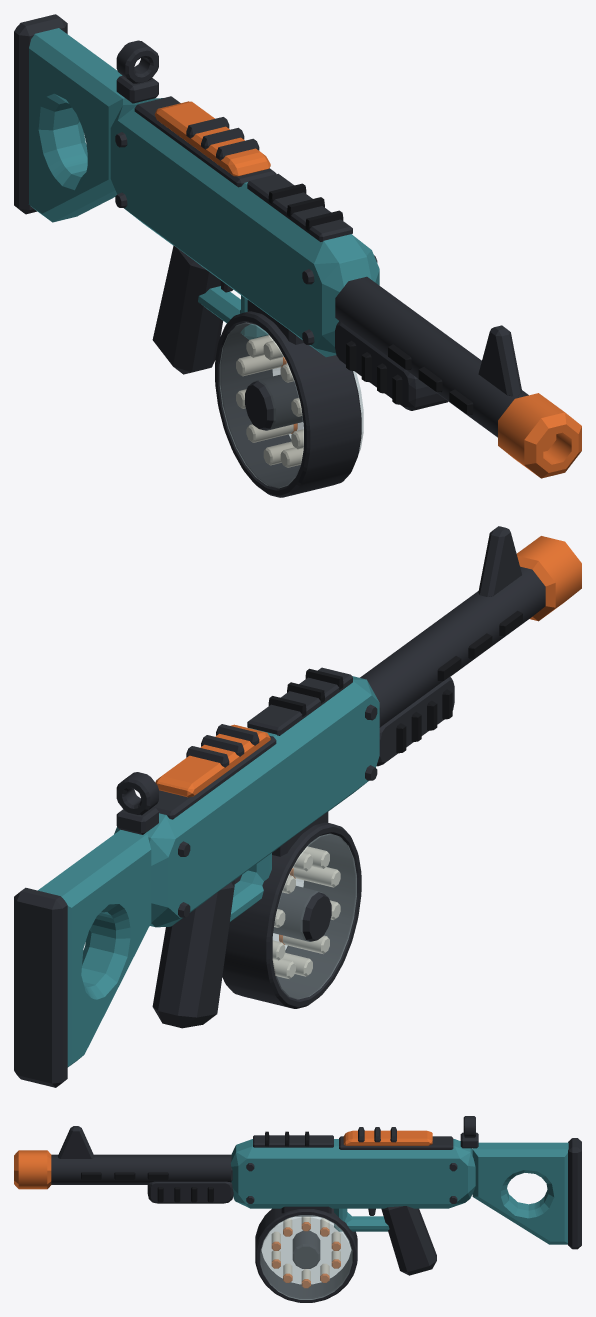
The model's file is w_ar@ar_toy.glb.
The picture shows the model from 3 angles, top to bottom: view 1: azimuth 30°, elevation 25°; view 2: azimuth 150°, elevation 25°; view 3: azimuth 270°, elevation 25°; orthographic projection. The views are drawn at different scales.
Parts seen in each view (by area): view 1: body_wzA__shell__p3e8a92, mag_wzB__dark__p2b2e35, stock_wzA__shell__p3e8a92, mag_wzN__clear__gcfe6ea61, barrel_wzB__dark__p2b2e35, grip_wzB__dark__p2b2e35, tip_wzN__tip__pe0702e, sight_wzB__dark__p2b2e35, stock_wzB__dark__p2b2e35, mag_wzN__foam__pddd8c8, charge_wzN__tip__pe0702e, fore_wzB__dark__p2b2e35 (+8 smaller); view 2: body_wzA__shell__p3e8a92, mag_wzB__dark__p2b2e35, stock_wzA__shell__p3e8a92, stock_wzB__dark__p2b2e35, mag_wzN__clear__gcfe6ea61, barrel_wzB__dark__p2b2e35, grip_wzB__dark__p2b2e35, sight_wzB__dark__p2b2e35, mag_wzN__foam__pddd8c8, tip_wzN__tip__pe0702e, charge_wzN__tip__pe0702e, rail_wzB__dark__p2b2e35 (+7 smaller); view 3: body_wzA__shell__p3e8a92, stock_wzA__shell__p3e8a92, mag_wzN__clear__gcfe6ea61, barrel_wzB__dark__p2b2e35, mag_wzB__dark__p2b2e35, grip_wzB__dark__p2b2e35, fore_wzB__dark__p2b2e35, stock_wzB__dark__p2b2e35, tip_wzN__tip__pe0702e, sight_wzB__dark__p2b2e35, charge_wzN__tip__pe0702e, mag_wzN__foam__pddd8c8 (+7 smaller).
Part boxes in pixels (x1,y1,x2,y2): body_wzA__shell__p3e8a92: (110,98,379,357); mag_wzB__dark__p2b2e35: (215,300,361,497); stock_wzA__shell__p3e8a92: (28,28,131,222); mag_wzN__clear__gcfe6ea61: (219,322,363,487); barrel_wzB__dark__p2b2e35: (335,276,528,437); grip_wzB__dark__p2b2e35: (152,245,222,374); tip_wzN__tip__pe0702e: (498,393,581,478); sight_wzB__dark__p2b2e35: (116,40,522,396); stock_wzB__dark__p2b2e35: (14,14,67,214); mag_wzN__foam__pddd8c8: (236,335,303,467); charge_wzN__tip__pe0702e: (154,101,270,176); fore_wzB__dark__p2b2e35: (335,321,448,410); body_wzA__shell__p3e8a92: (114,676,379,927); mag_wzB__dark__p2b2e35: (222,811,361,1008); stock_wzA__shell__p3e8a92: (38,829,151,1067); stock_wzB__dark__p2b2e35: (14,887,67,1087); mag_wzN__clear__gcfe6ea61: (272,834,356,999); barrel_wzB__dark__p2b2e35: (360,566,545,727); grip_wzB__dark__p2b2e35: (152,882,234,1028); sight_wzB__dark__p2b2e35: (116,526,521,834); mag_wzN__foam__pddd8c8: (272,846,340,978); tip_wzN__tip__pe0702e: (516,536,581,621); charge_wzN__tip__pe0702e: (155,724,270,797); rail_wzB__dark__p2b2e35: (247,667,352,735); body_wzA__shell__p3e8a92: (230,1139,475,1208); stock_wzA__shell__p3e8a92: (472,1142,568,1244); mag_wzN__clear__gcfe6ea61: (260,1215,352,1299); barrel_wzB__dark__p2b2e35: (51,1154,232,1184); mag_wzB__dark__p2b2e35: (255,1206,357,1302); grip_wzB__dark__p2b2e35: (381,1206,436,1275); fore_wzB__dark__p2b2e35: (147,1181,233,1203); stock_wzB__dark__p2b2e35: (568,1138,581,1249); tip_wzN__tip__pe0702e: (14,1150,51,1189); sight_wzB__dark__p2b2e35: (58,1116,478,1158); charge_wzN__tip__pe0702e: (343,1130,432,1145); mag_wzN__foam__pddd8c8: (271,1216,340,1280).
Bounding box in the file's own units: 0.0904 × 0.4132 × 1.19.
